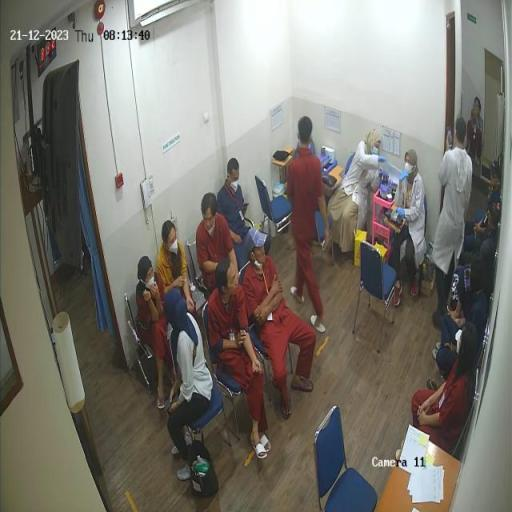person: (242, 239, 317, 417), (209, 260, 272, 458), (285, 116, 329, 335), (165, 289, 214, 481), (412, 322, 480, 456), (431, 119, 474, 330), (329, 128, 387, 258), (433, 255, 489, 380), (136, 257, 180, 412), (388, 150, 428, 306), (157, 221, 198, 372), (218, 158, 271, 272), (197, 194, 240, 295), (465, 161, 502, 255), (459, 203, 501, 279), (468, 98, 485, 165)
